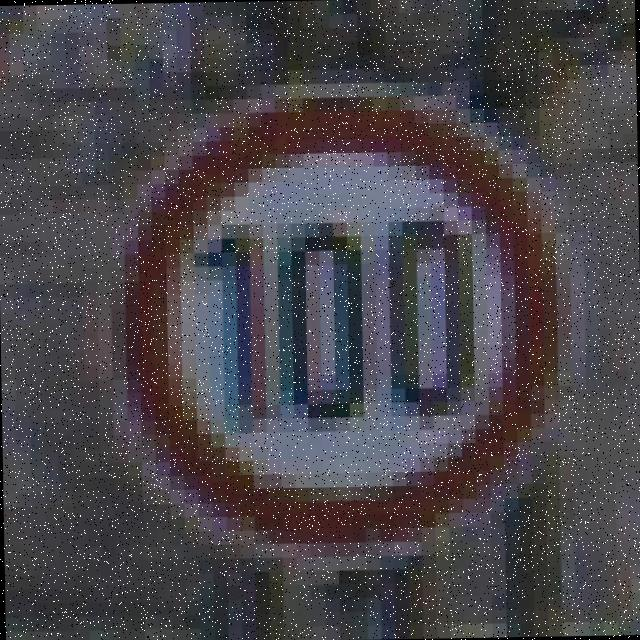Ograniczenie predkosci do 100: (124, 91, 571, 558)
